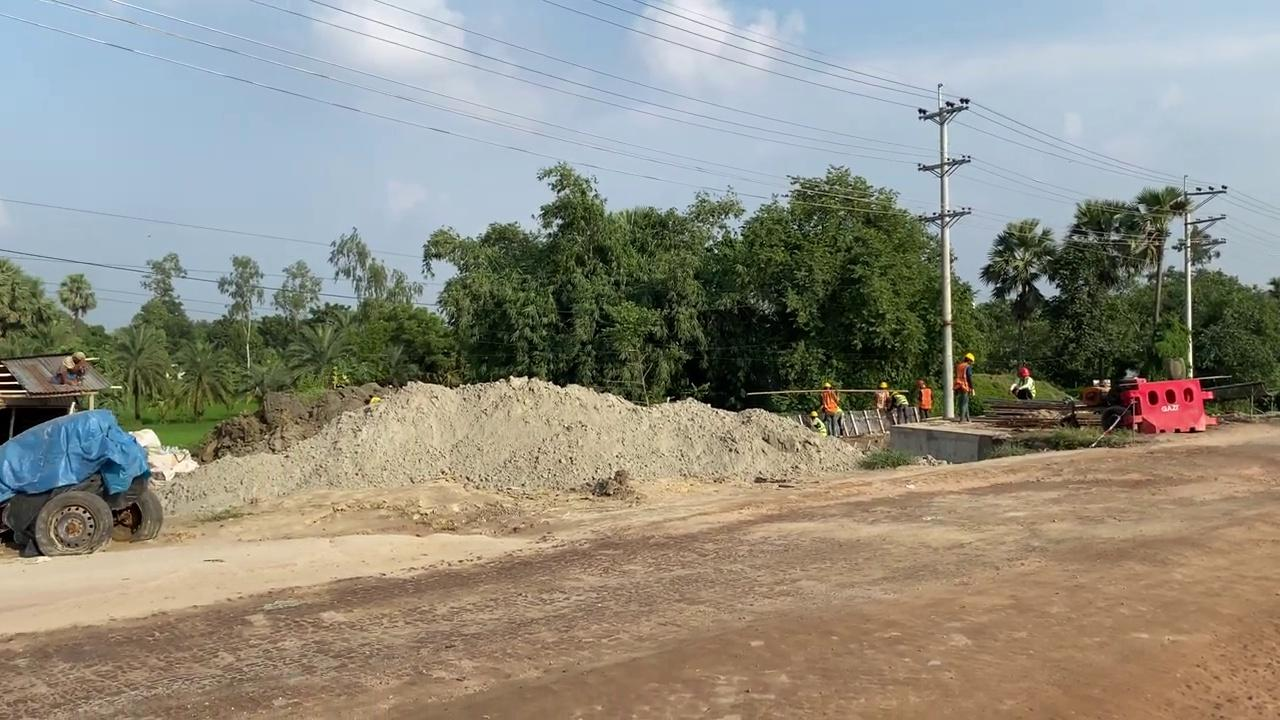Construction-barrier: (1073, 373, 1220, 434)
Garbage: (152, 373, 872, 519)
Light-pole: (916, 83, 972, 420)
Obstacle: (887, 418, 1011, 463)
Pole: (938, 85, 955, 420), (1182, 173, 1194, 378)
Traffic-sign: (978, 216, 1057, 374), (102, 321, 172, 420), (56, 272, 96, 337)
Tree: (745, 379, 928, 445), (1079, 373, 1147, 407)
